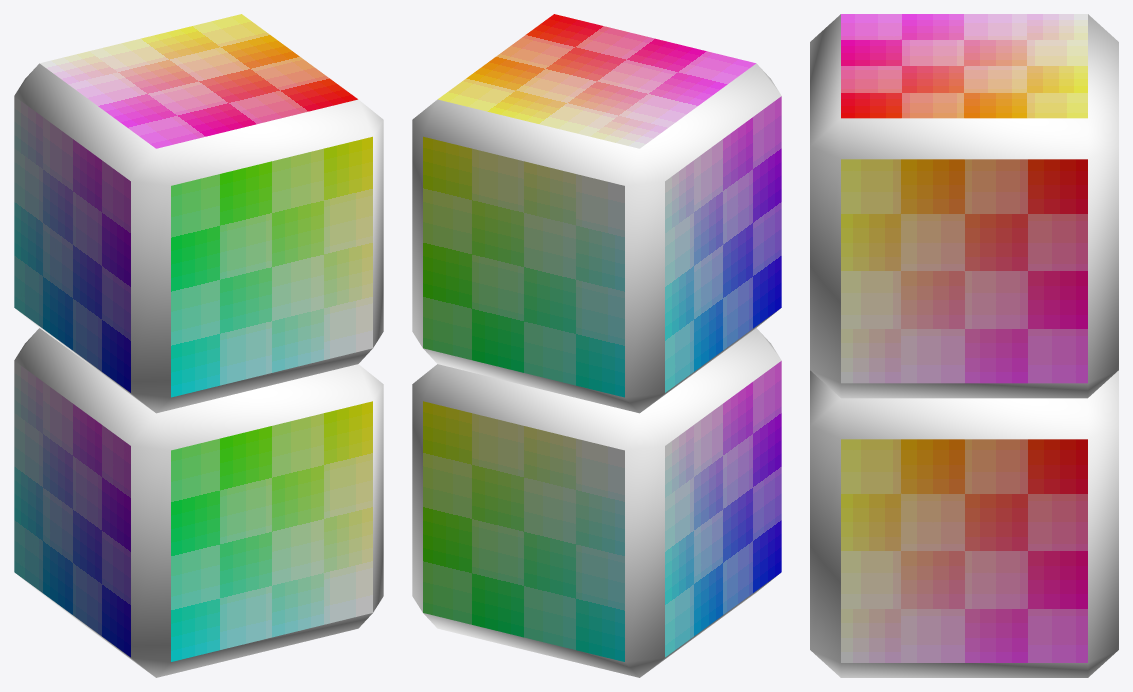
The model's file is itemboxw_lan.dae.
3 renders of one model, left to right at view 1: azimuth 30°, elevation 25°; view 2: azimuth 150°, elevation 25°; view 3: azimuth 270°, elevation 25°, orthographic. The views are drawn at different scales.
Parts seen in each view (by area): view 1: n0b0; view 2: n0b0; view 3: n0b0.
Boxes of the visible parts, x1,y1,x2,y2 form: n0b0: [14, 14, 383, 677]; n0b0: [412, 14, 781, 677]; n0b0: [810, 14, 1118, 677].
Bounding box in the file's own units: 168 × 336 × 168.
Materials: 1 (1 with a texture image).
